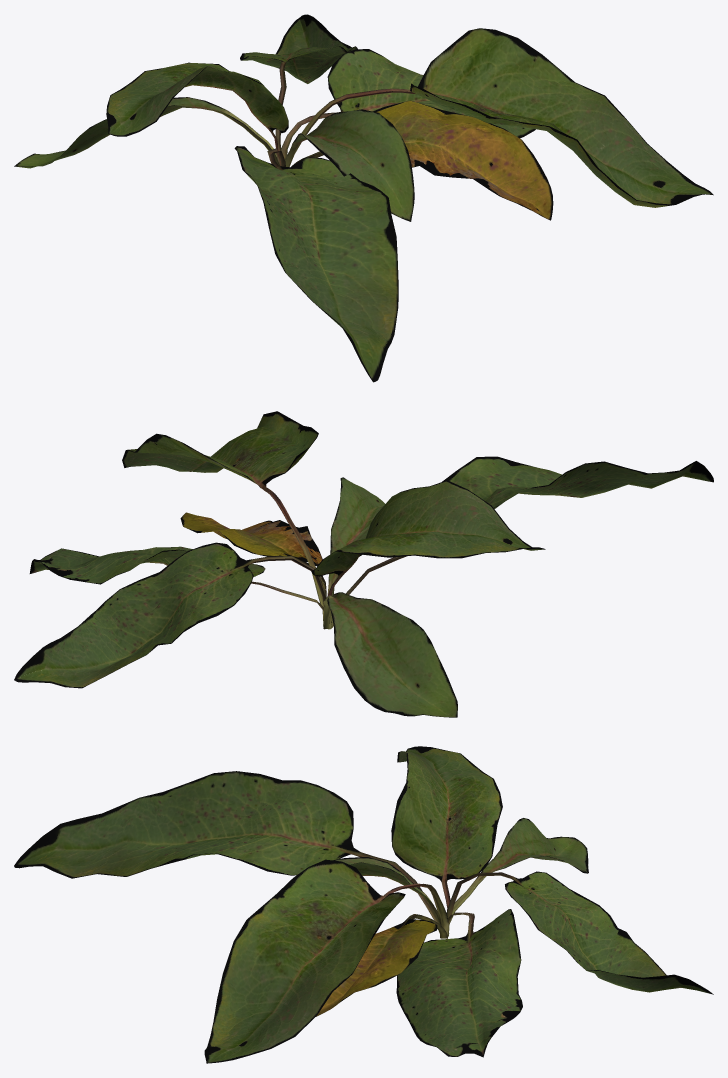
File: weed_plant_02_a.glb
3 views of the same model, one above another, from view 1: azimuth 30°, elevation 25°; view 2: azimuth 150°, elevation 25°; view 3: azimuth 270°, elevation 25° (orthographic). The views are drawn at different scales.
Parts seen in each view (by area): view 1: weed_plant_02_a_LOD0; view 2: weed_plant_02_a_LOD0; view 3: weed_plant_02_a_LOD0.
Part boxes in pixels (x1,y1,x2,y2): weed_plant_02_a_LOD0: (14, 14, 713, 382); weed_plant_02_a_LOD0: (14, 411, 713, 717); weed_plant_02_a_LOD0: (14, 746, 713, 1063).
Size of the model in its own units: 0.2194 by 0.0725 by 0.2909.
1 material, 1 textured.
